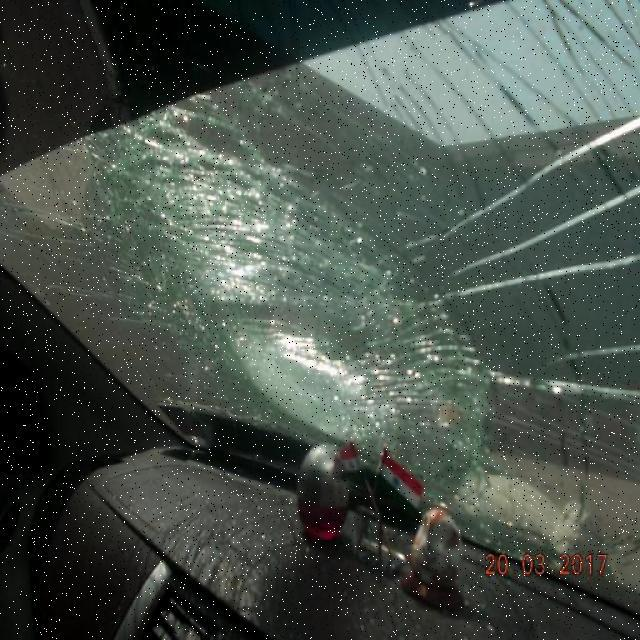car damage: (98, 118, 640, 525)
